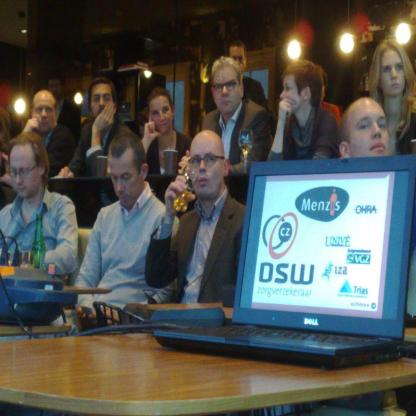board: (155, 152, 416, 366), (32, 214, 45, 269)
